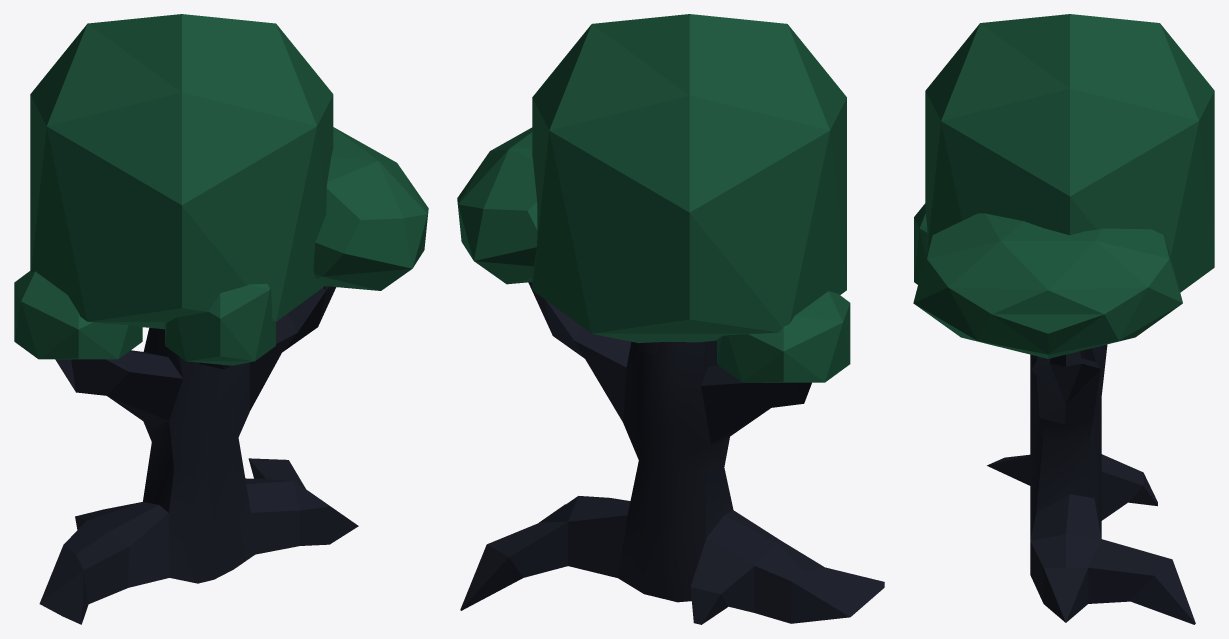
The model's file is GreenTree.FBX.
3 renders of one model, left to right at view 1: azimuth 30°, elevation 25°; view 2: azimuth 150°, elevation 25°; view 3: azimuth 270°, elevation 25°, orthographic. The views are drawn at different scales.
Parts seen in each view (by area): view 1: GeoSphere002, Box001; view 2: GeoSphere002, Box001; view 3: GeoSphere002, Box001.
Part boxes in pixels (x1,y1,x2,y2): GeoSphere002: (14, 14, 428, 365); Box001: (39, 286, 358, 624); GeoSphere002: (457, 14, 850, 382); Box001: (460, 282, 884, 624); GeoSphere002: (913, 14, 1214, 358); Box001: (987, 344, 1195, 624).
Bounding box in the file's own units: 113 × 167 × 84.46.
